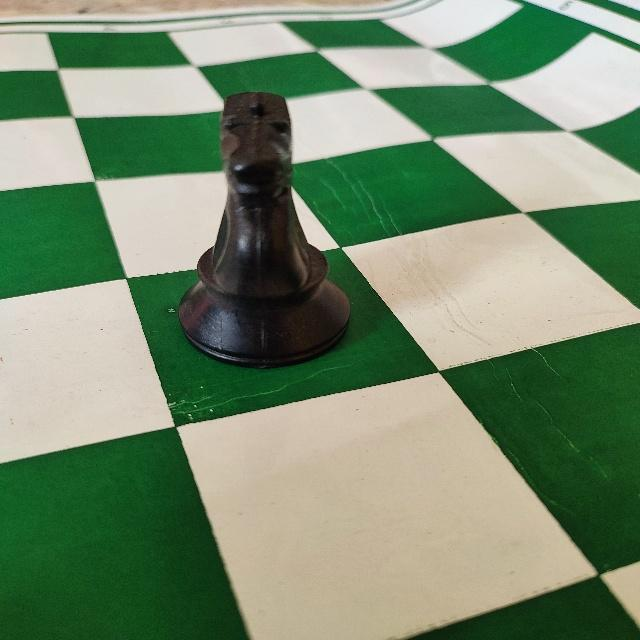Knight: (174, 82, 360, 372)
